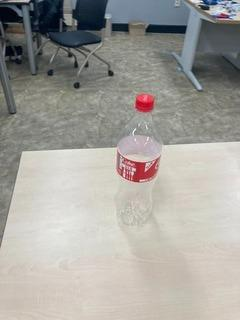BIODEGRADABLE: (113, 93, 164, 235)
